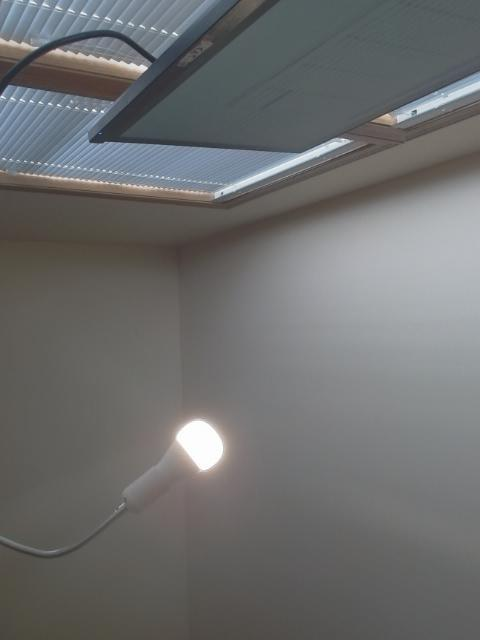TubeLight: (149, 418, 223, 488)
